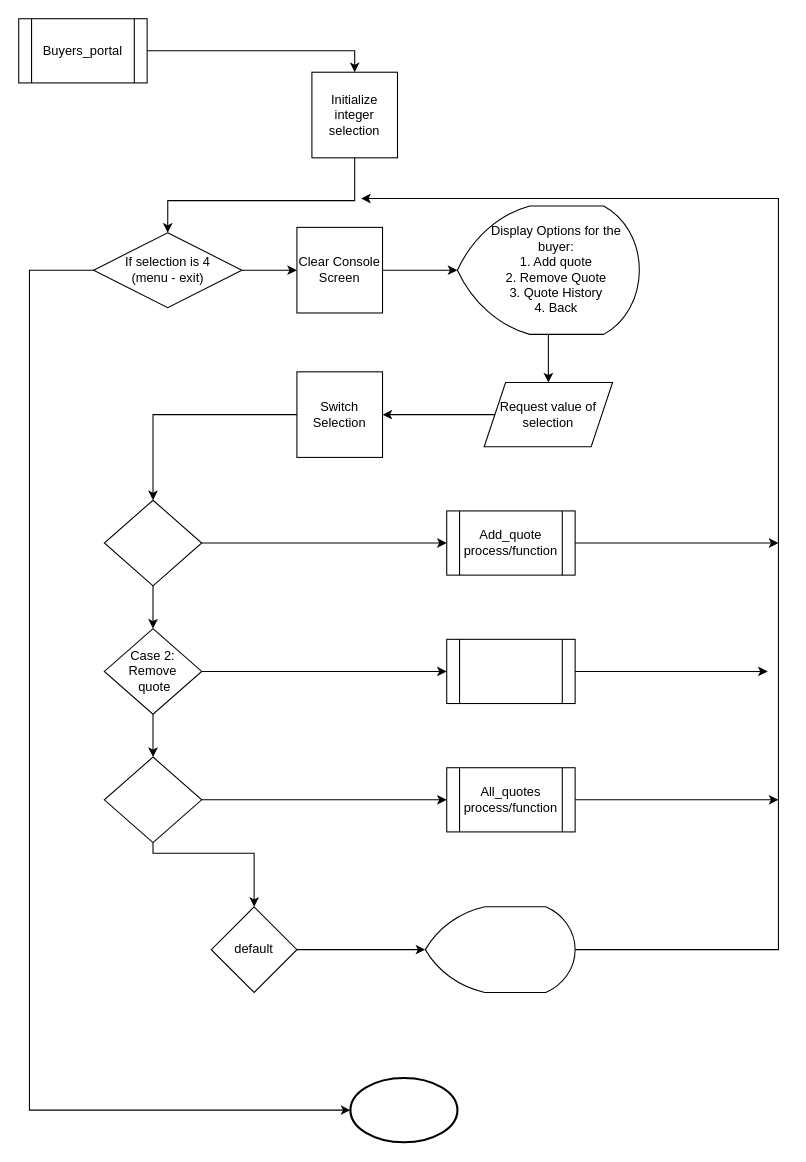
Some shapes in this 806 by 1162 pixel diagram are drawn without their labels. The shapes that lost their labels are listed below. From the top down, each one's centre as x and y in pixels, then its label:
At point 152,542: "Case 1: Add quote".
At point 510,671: "Remove_quote process/function".
At point 152,799: "Case 3: All quotes".
At point 499,949: "Request user to enter valid option".
At point 403,1109: "TERMINATE PROCESS".
